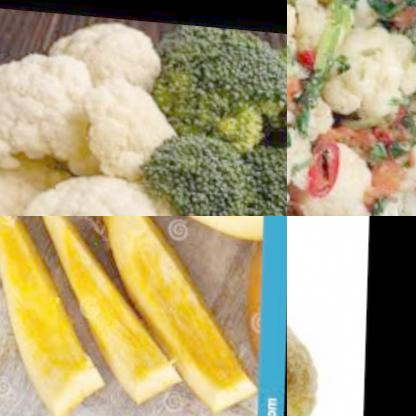broccoli: (144, 16, 287, 216)
cayliflower: (0, 3, 196, 216), (312, 17, 416, 135), (287, 120, 409, 216), (287, 289, 332, 416), (287, 0, 352, 56)
pumpkin: (105, 216, 263, 412), (25, 216, 190, 401), (0, 216, 113, 416), (239, 228, 265, 369)
